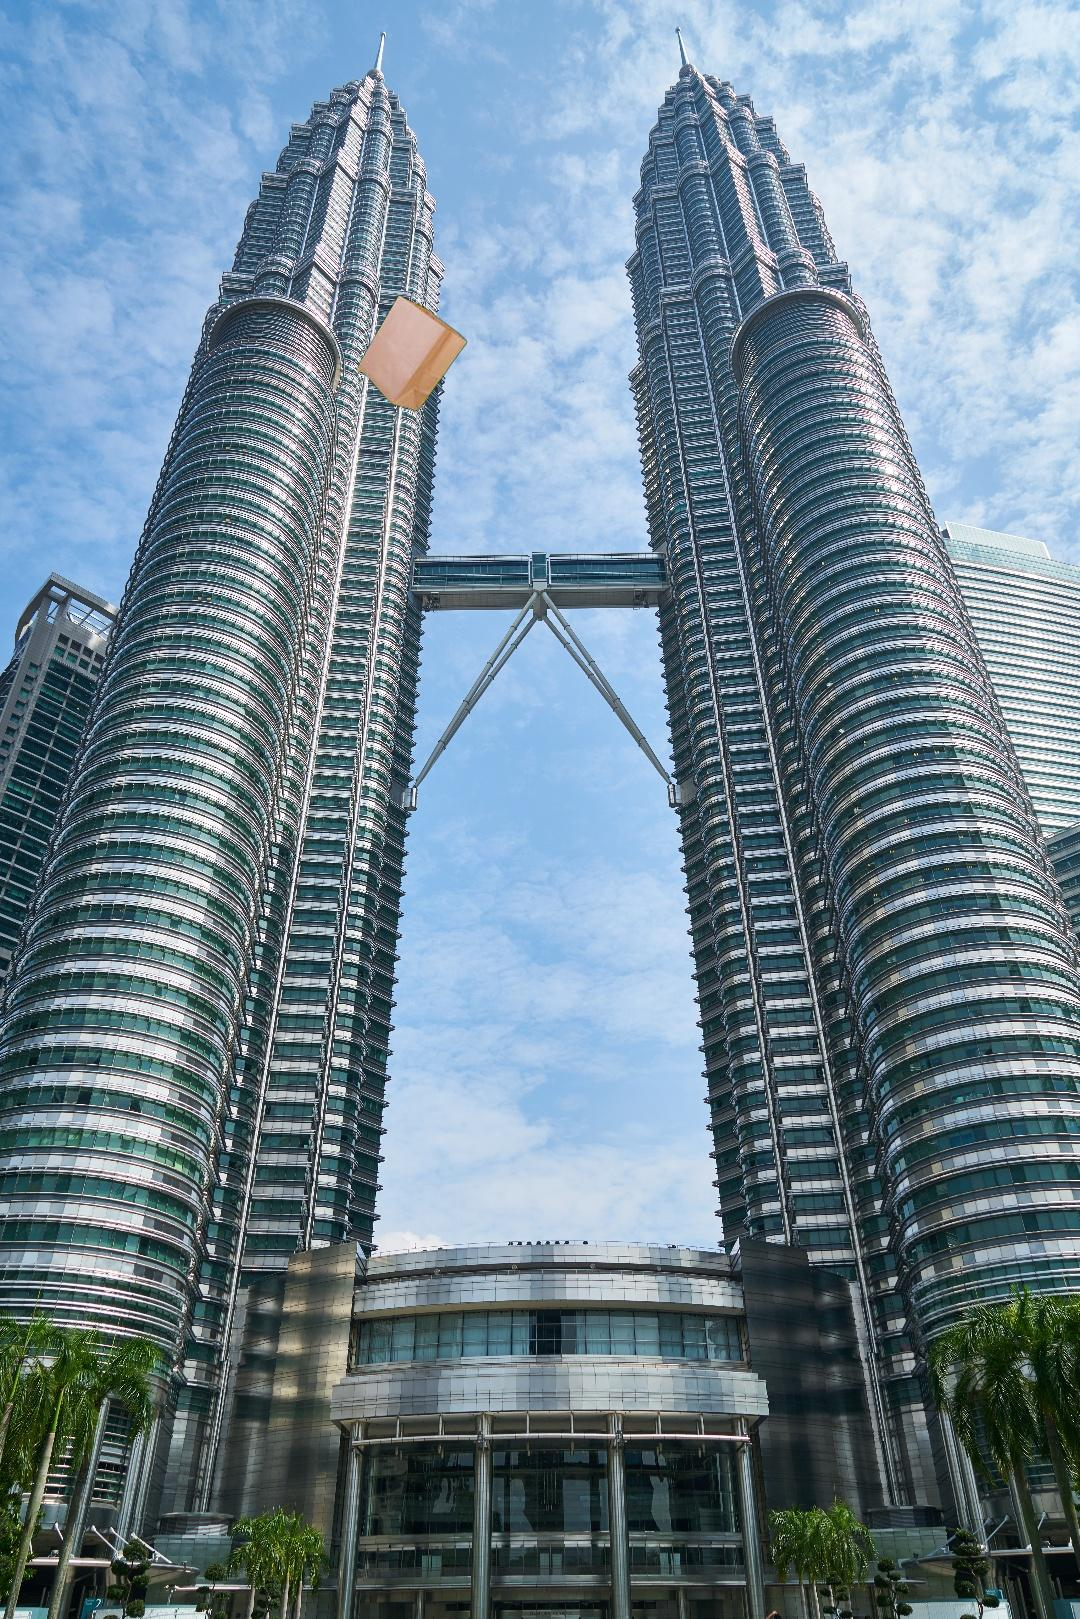paper-bag: (356, 292, 470, 413)
